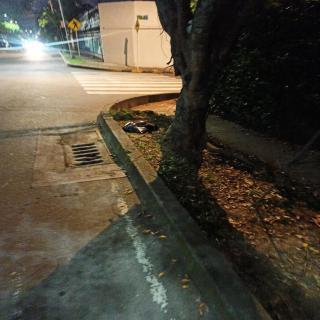Garbage: (122, 120, 159, 134)
